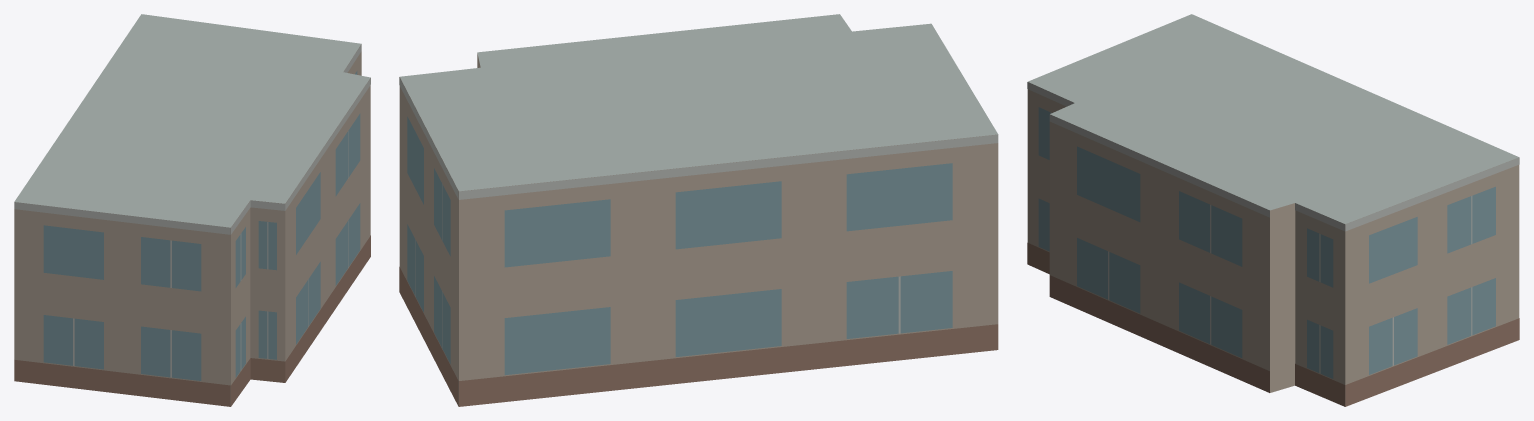
File: survey-upis-32690651.glb
3 renders of one model, left to right at view 1: azimuth 30°, elevation 25°; view 2: azimuth 150°, elevation 25°; view 3: azimuth 270°, elevation 25°, orthographic. The views are drawn at different scales.
Parts seen in each view (by area): view 1: survey-upis-32690651.tmp; view 2: survey-upis-32690651.tmp; view 3: survey-upis-32690651.tmp.
Part boxes in pixels (x1,y1,x2,y2): survey-upis-32690651.tmp: [14, 14, 370, 406]; survey-upis-32690651.tmp: [399, 14, 998, 406]; survey-upis-32690651.tmp: [1027, 14, 1519, 406].
Size of the model in its own units: 15.07 by 6.1 by 14.9.
